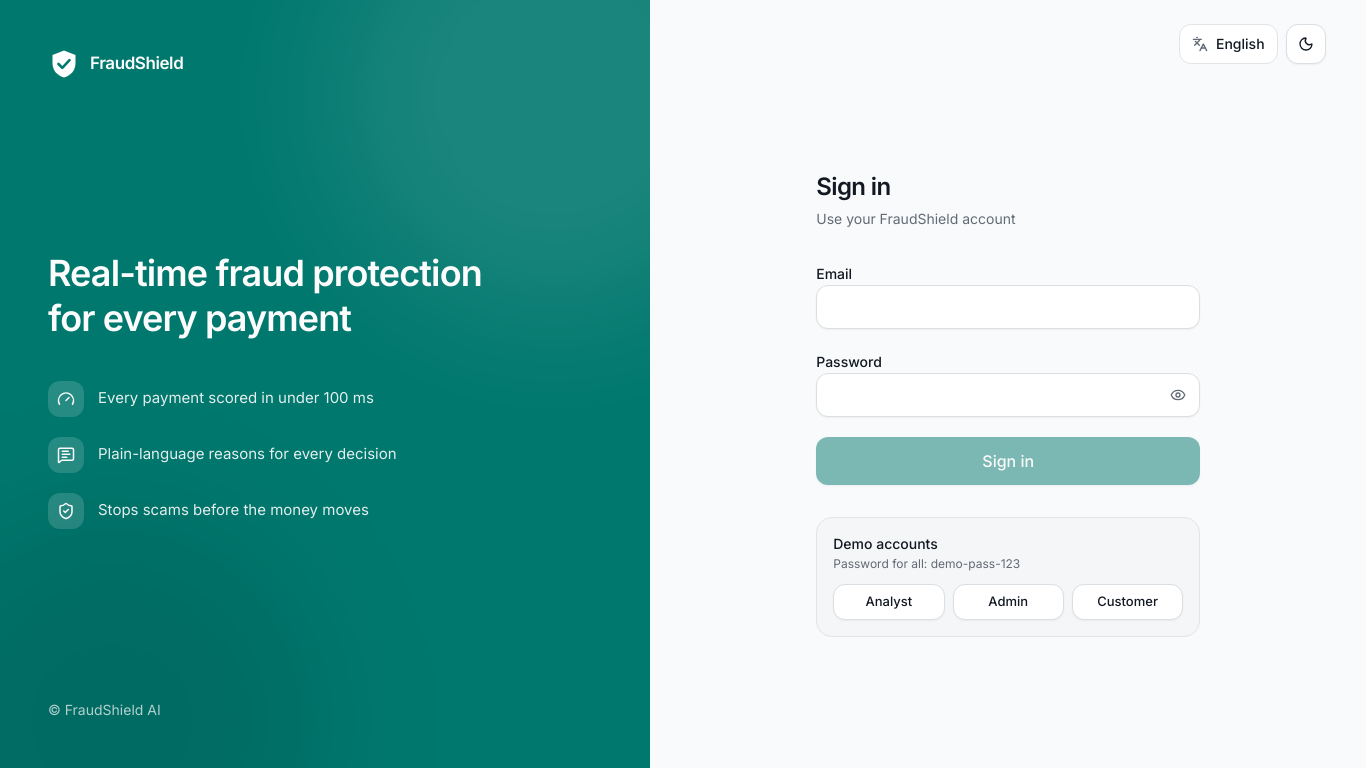
login and role-based redirect (spec 06 §1) › sends analysts to /dashboard
Type "analyst@demo.fraudshield" into the field labelled "Email". click: (1008, 307)
box: [816, 285, 1200, 329]
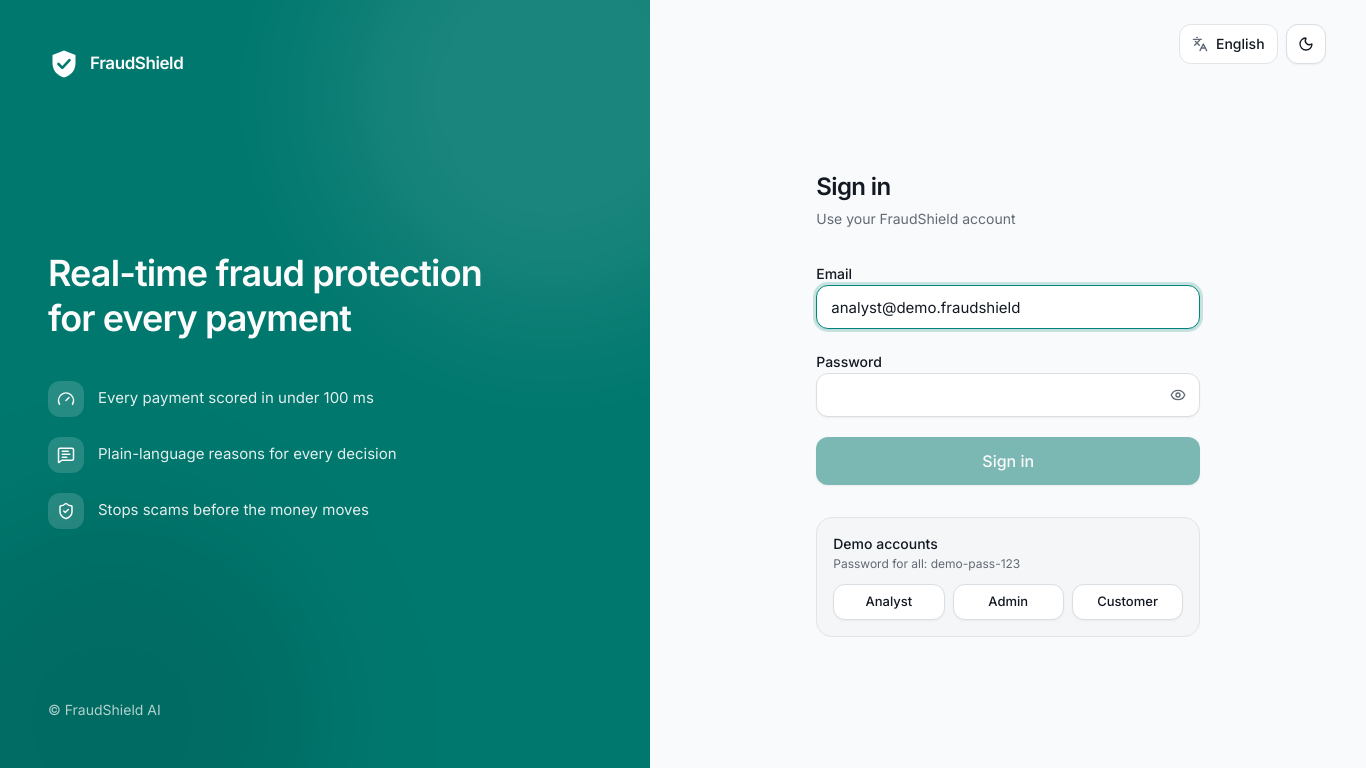
Type "demo-pass-123" into the password field labelled "Password". click: (1008, 395)
box: [816, 373, 1200, 417]
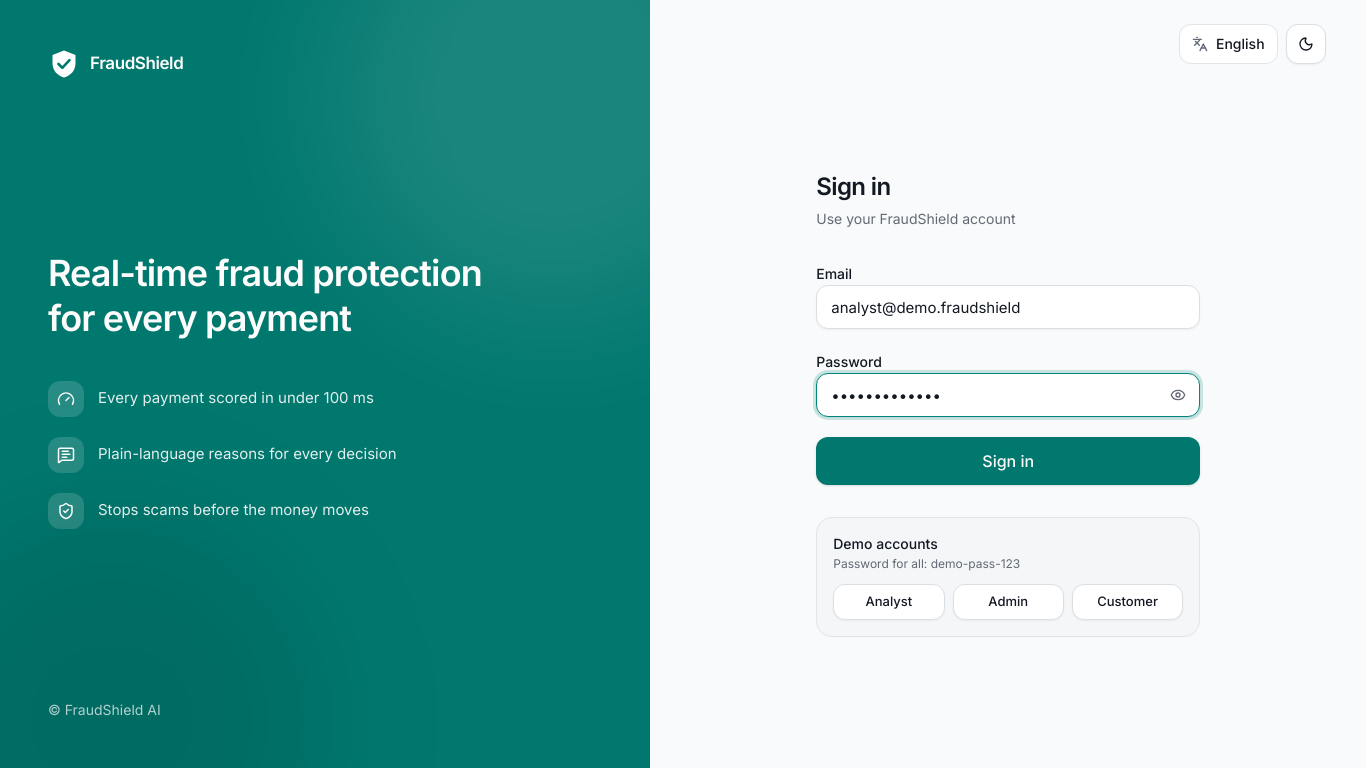
Click the button "Sign in". click: (1008, 461)
box: [816, 437, 1200, 485]
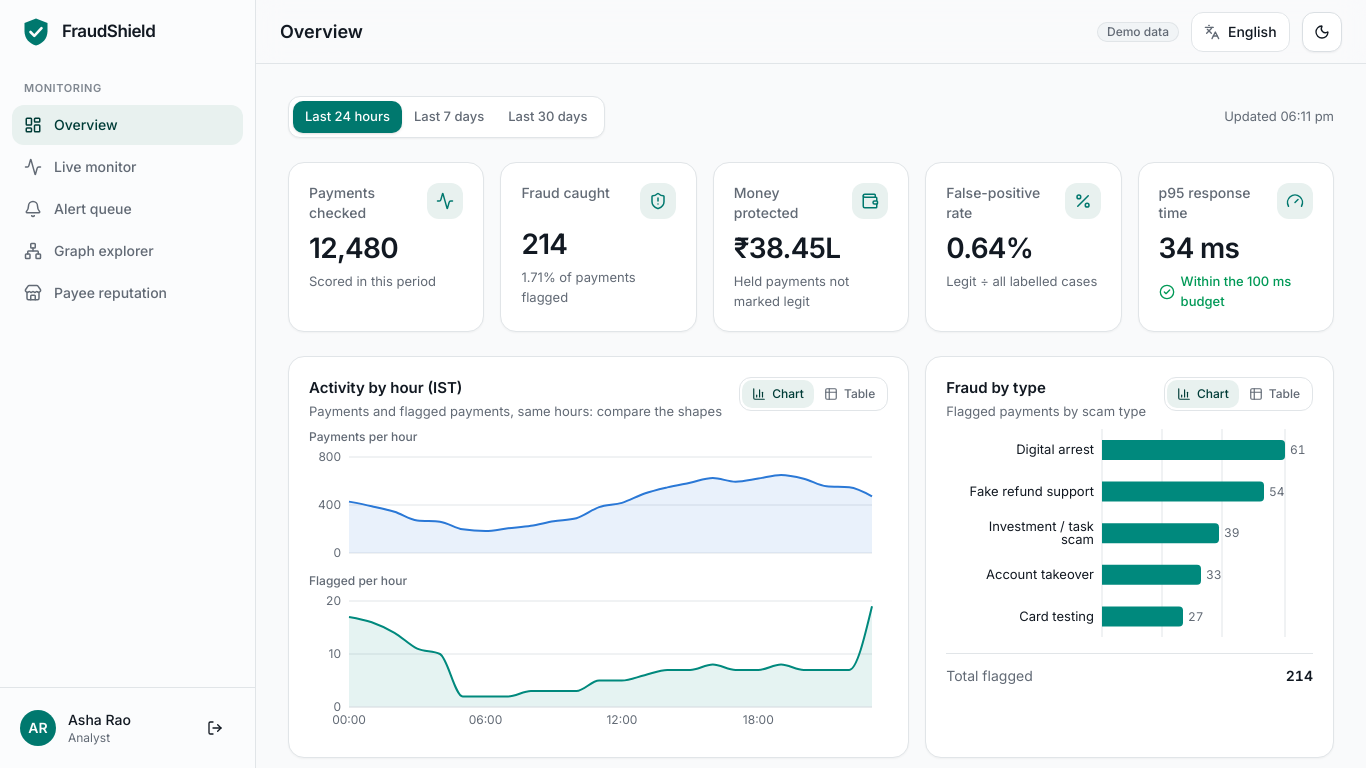
expect the navigation bar named "Dashboard" is shown: met, box [12, 81, 243, 302]
